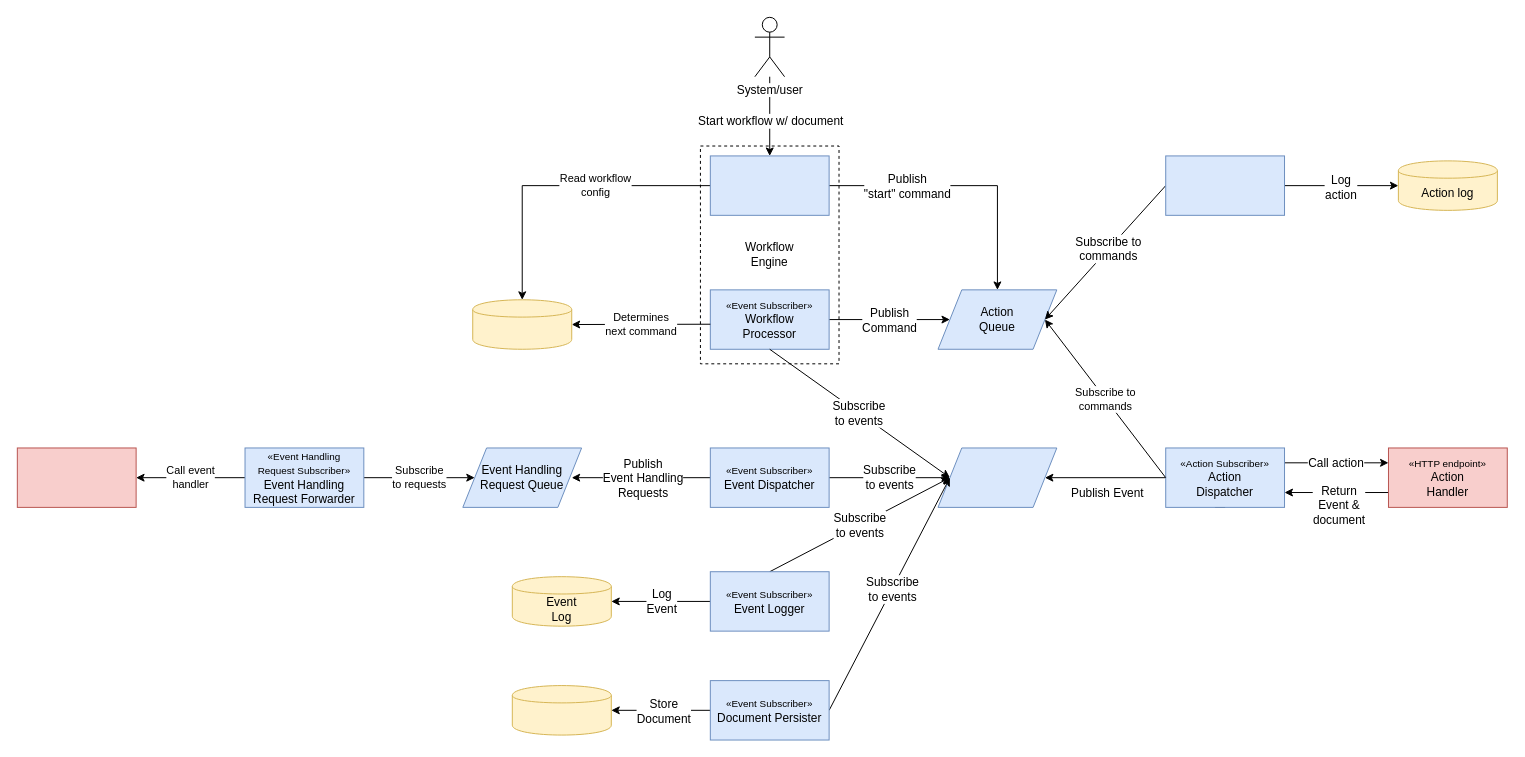
Image size: 1525x757. Some labels were removed from this diagram. The shapes that lost their labels are listed below. From the top down, each one's centre as x and y in pixels, then its label:
At pixel 769 185: "«HTTP endpoint» Workflow Service".
At pixel 1225 185: "«Action Subscriber» Action Logger".
At pixel 522 324: "Workflow Config".
At pixel 76 477: "«Event Listener» Event Handler".
At pixel 997 477: "Event Queue".
At pixel 561 710: "Document store".
